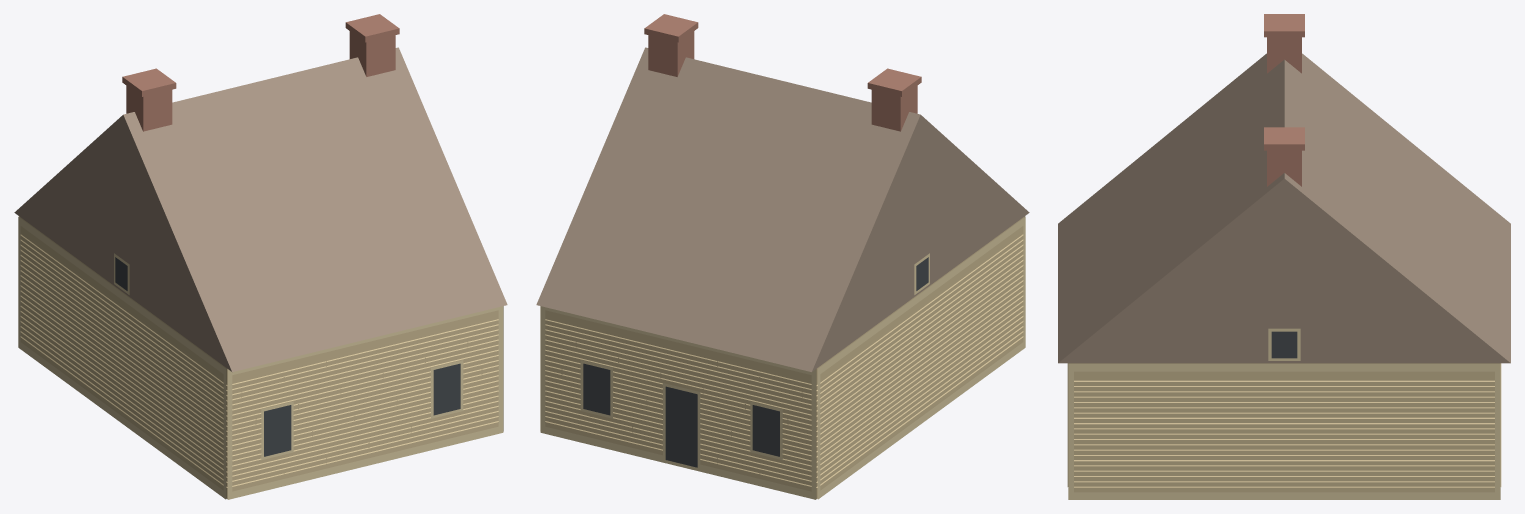
File: recon_1835_west_006__inferred_1835.glb
3 views of the same model, side by side, from view 1: azimuth 30°, elevation 25°; view 2: azimuth 150°, elevation 25°; view 3: azimuth 270°, elevation 25° (orthographic). The views are drawn at different scales.
Visible parts, largest first — view 1: recon_1835_west_006__inferred_1835; view 2: recon_1835_west_006__inferred_1835; view 3: recon_1835_west_006__inferred_1835.
Part boxes in pixels (left/top/right/bottom): recon_1835_west_006__inferred_1835: left=14, top=14, right=507, bottom=499; recon_1835_west_006__inferred_1835: left=536, top=14, right=1029, bottom=499; recon_1835_west_006__inferred_1835: left=1058, top=14, right=1510, bottom=499.
Bounding box in the file's own units: 8.02 × 9.27 × 10.86.
